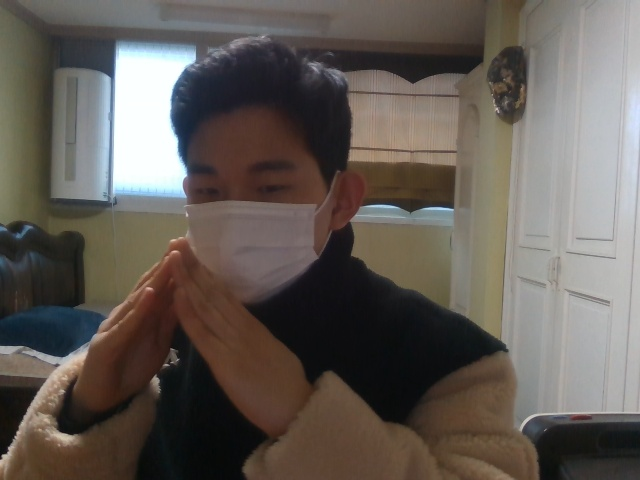HOME: (76, 235, 308, 431)
